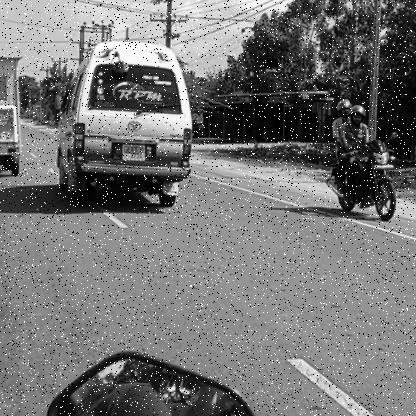motorcycle: (324, 138, 398, 224)
